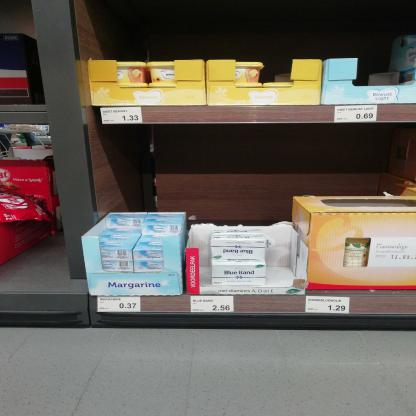prtg: (307, 297, 351, 315), (102, 107, 144, 125), (335, 106, 378, 123), (99, 297, 142, 313), (192, 297, 235, 313)
